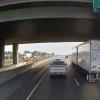Bridge: (2, 3, 91, 53)
